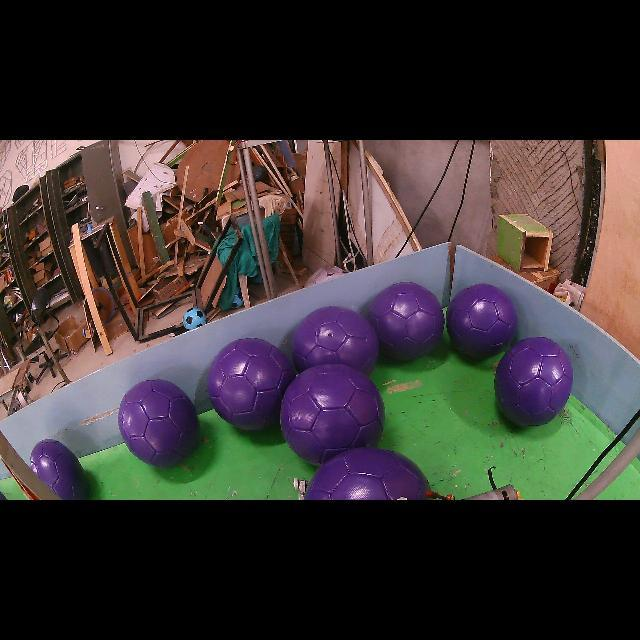P: (280, 364, 385, 466), (208, 338, 295, 430), (119, 380, 199, 468), (495, 338, 572, 426), (305, 448, 430, 500), (368, 282, 445, 360), (292, 306, 379, 375), (446, 284, 518, 358), (30, 439, 88, 500)
